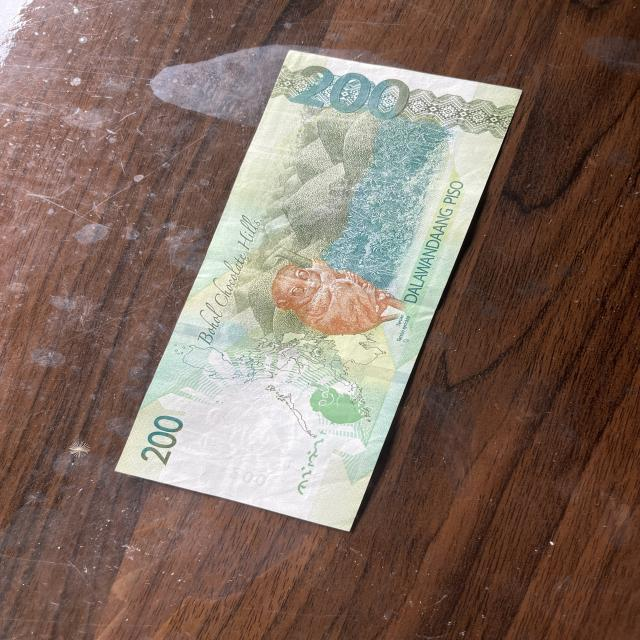200_tarsier: (255, 252, 418, 345)
200_tarsier_watermark: (298, 375, 384, 433)
value_watermark: (234, 467, 277, 492)
watermark: (186, 397, 316, 497)
